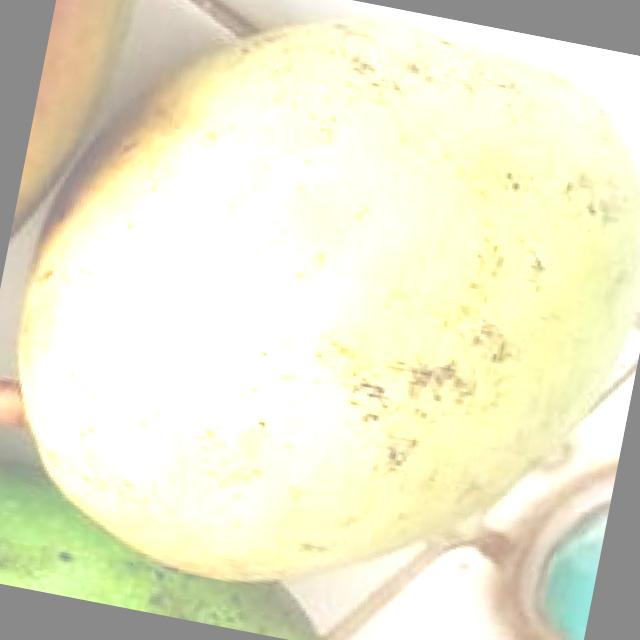Mango: (0, 0, 640, 640), (10, 0, 146, 253)
